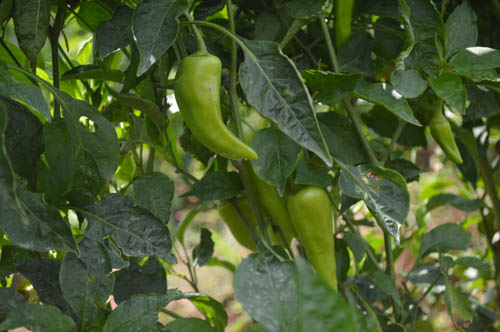ChiliPepper: (176, 54, 259, 160), (238, 110, 289, 234), (293, 188, 337, 287), (225, 197, 259, 248), (430, 117, 462, 162)
